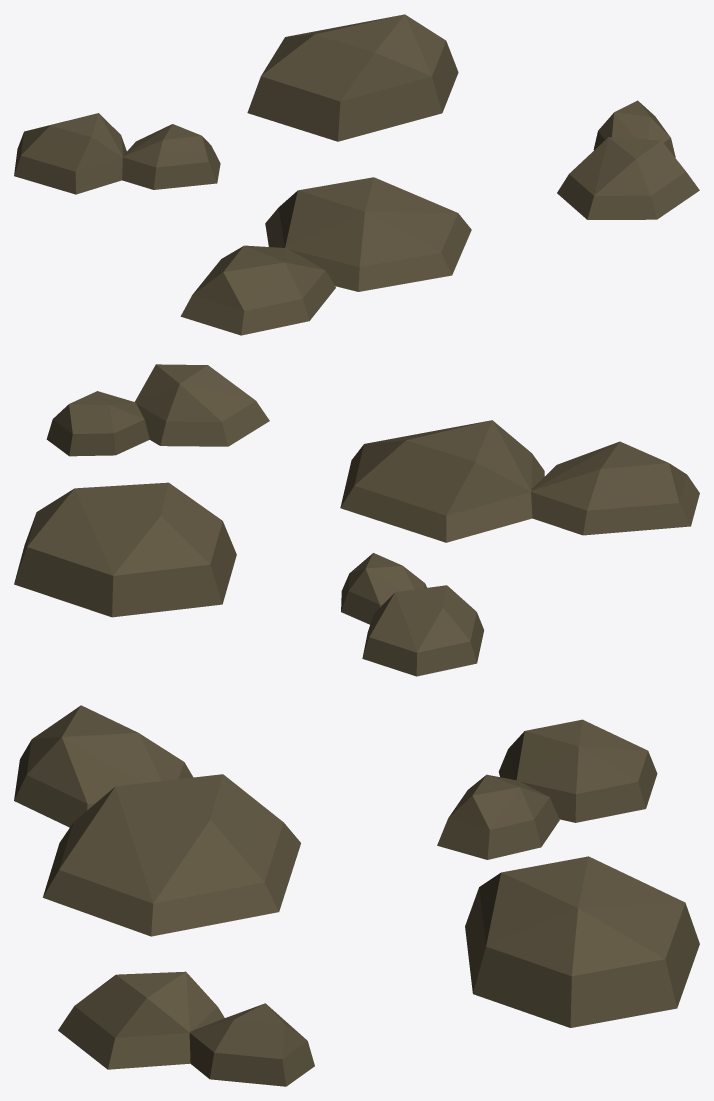
Rendered from rock__pebbles1.glb.
3 views of the same model, one above another, from view 1: azimuth 30°, elevation 25°; view 2: azimuth 150°, elevation 25°; view 3: azimuth 270°, elevation 25° (orthographic). The views are drawn at different scales.
Visible parts, largest first — view 1: pebbles1.caves.medium; view 2: pebbles1.caves.medium; view 3: pebbles1.caves.medium.
Part boxes in pixels (left/top/right/bottom): pebbles1.caves.medium: left=14, top=14, right=699, bottom=335; pebbles1.caves.medium: left=14, top=364, right=699, bottom=676; pebbles1.caves.medium: left=14, top=705, right=699, bottom=1086.
Bounding box in the file's own units: 1.96 × 0.241 × 1.65.
1 material, 1 textured.
